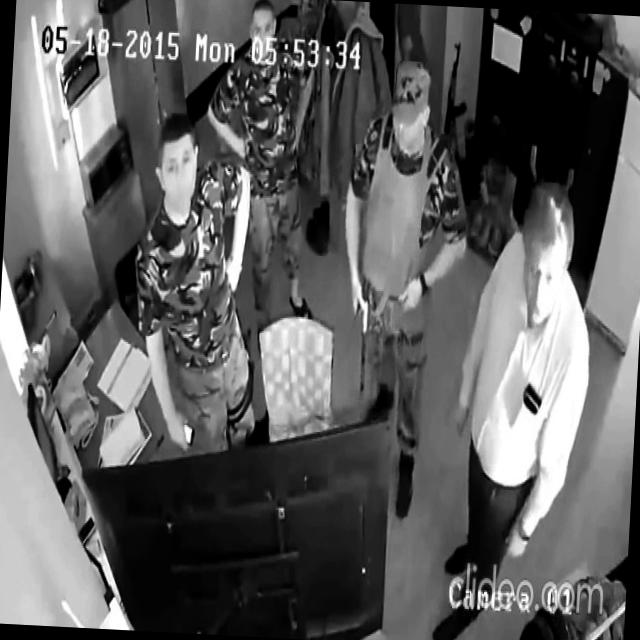gun: (442, 38, 471, 145), (354, 260, 374, 394)
person: (433, 176, 602, 640), (126, 112, 272, 462), (195, 0, 331, 331)
person with a gun: (330, 57, 478, 522)
